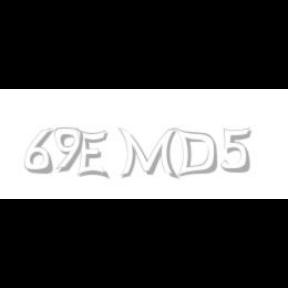5: (220, 128, 252, 174)
6: (24, 128, 54, 176)
9: (54, 128, 84, 172)
D: (174, 128, 218, 178)
E: (75, 128, 108, 180)
M: (117, 128, 176, 180)
